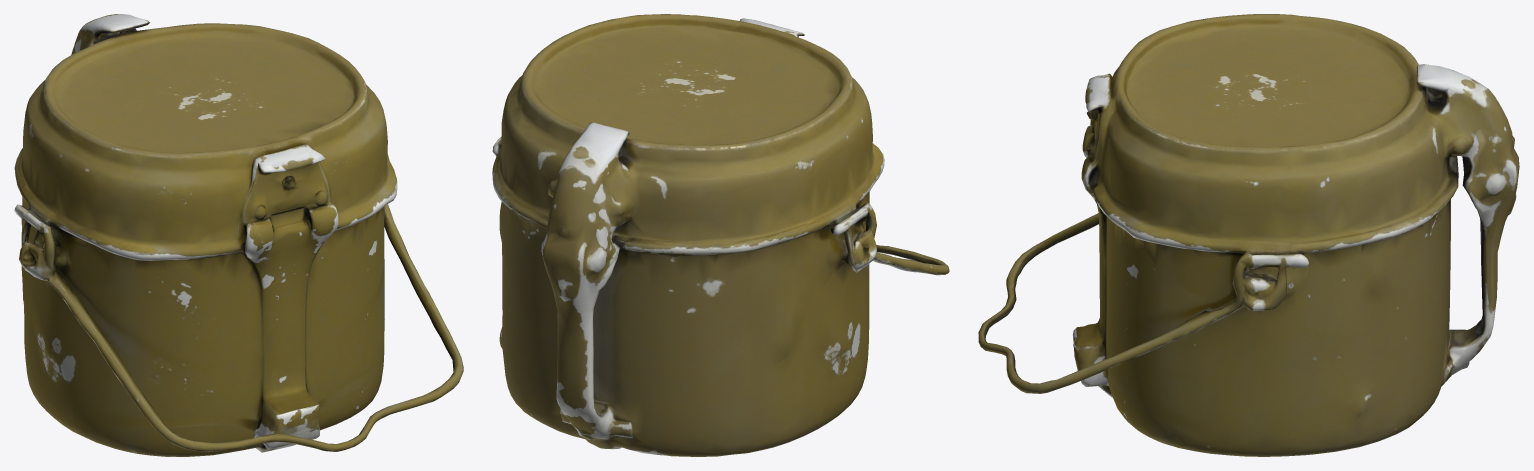
Rendered from flyaga.glb.
The picture shows the model from 3 angles, left to right: view 1: azimuth 30°, elevation 25°; view 2: azimuth 150°, elevation 25°; view 3: azimuth 270°, elevation 25°; orthographic projection.
Size of the model in its own units: 1.55 by 1.31 by 2.
1 material, 1 textured.
